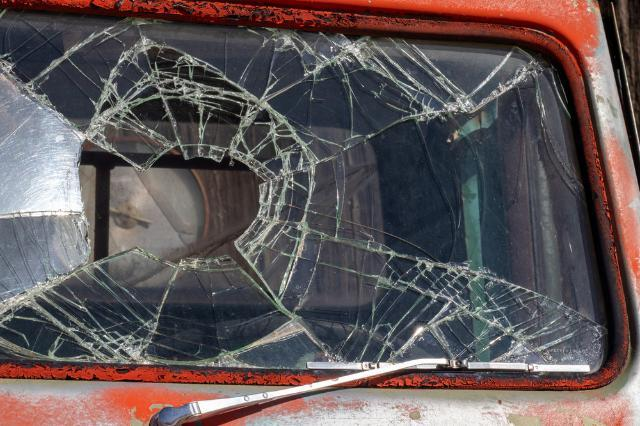glass shatter: (0, 6, 611, 376)
